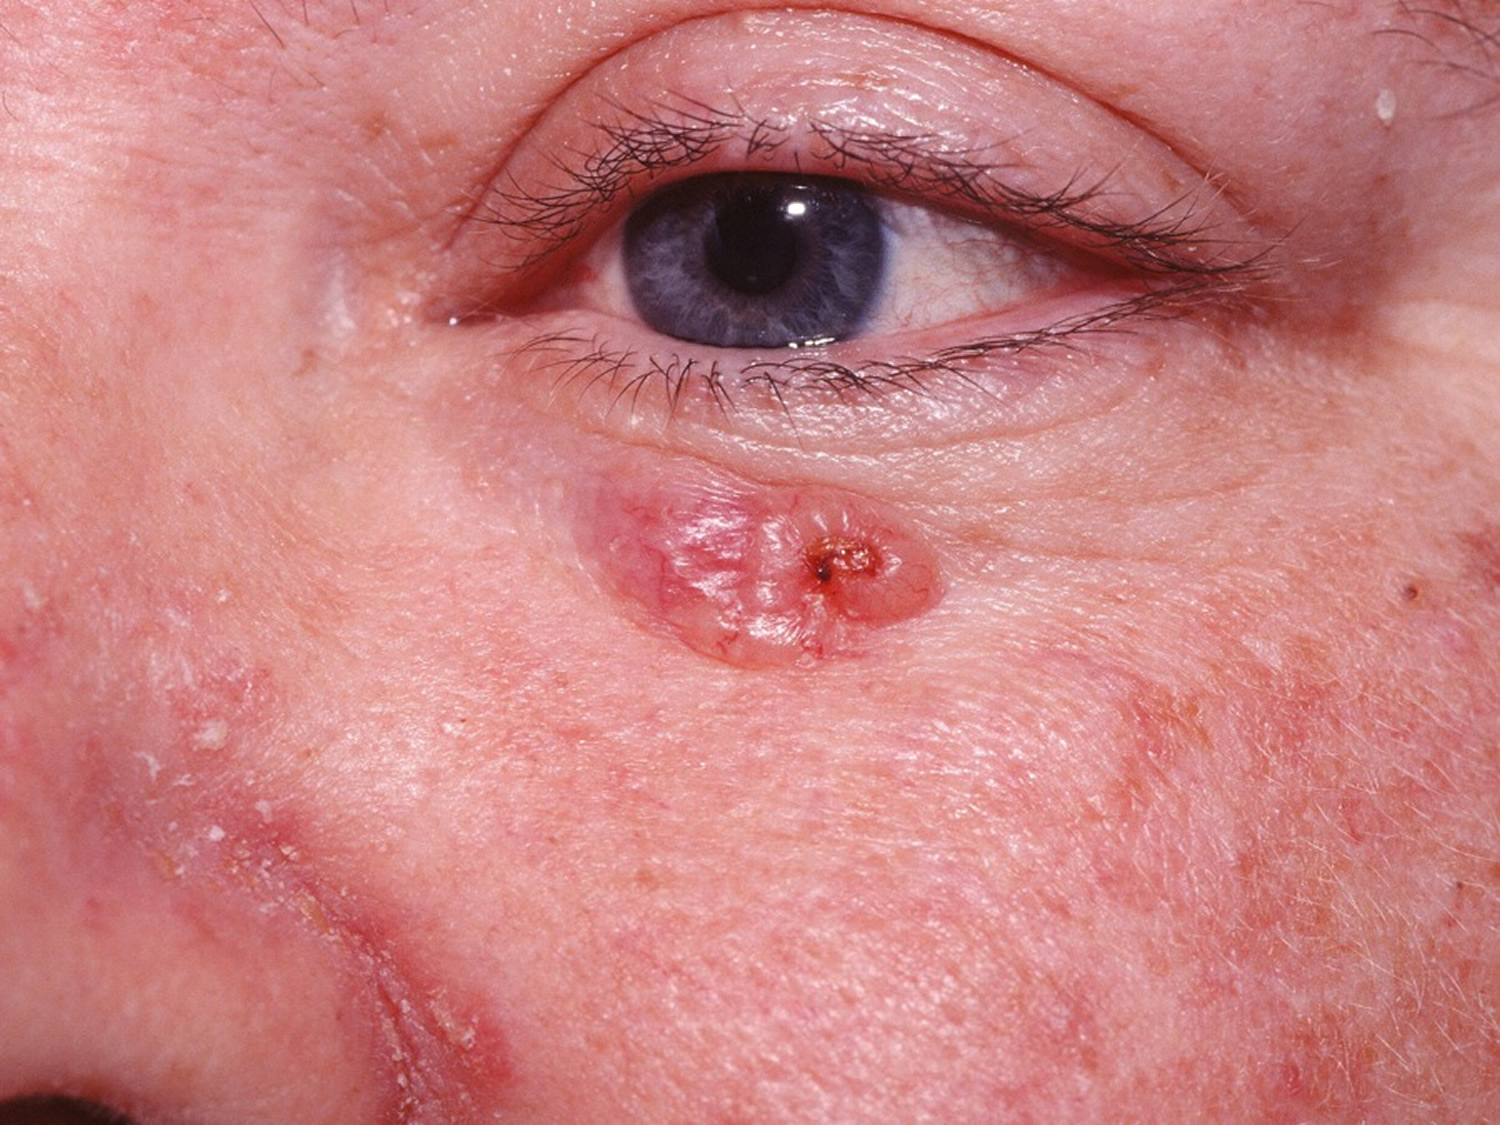Basa Cell Carcinoma: (462, 372, 1019, 718)
